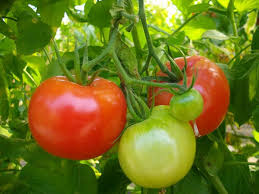tomato: (26, 74, 130, 160), (147, 59, 227, 139)
